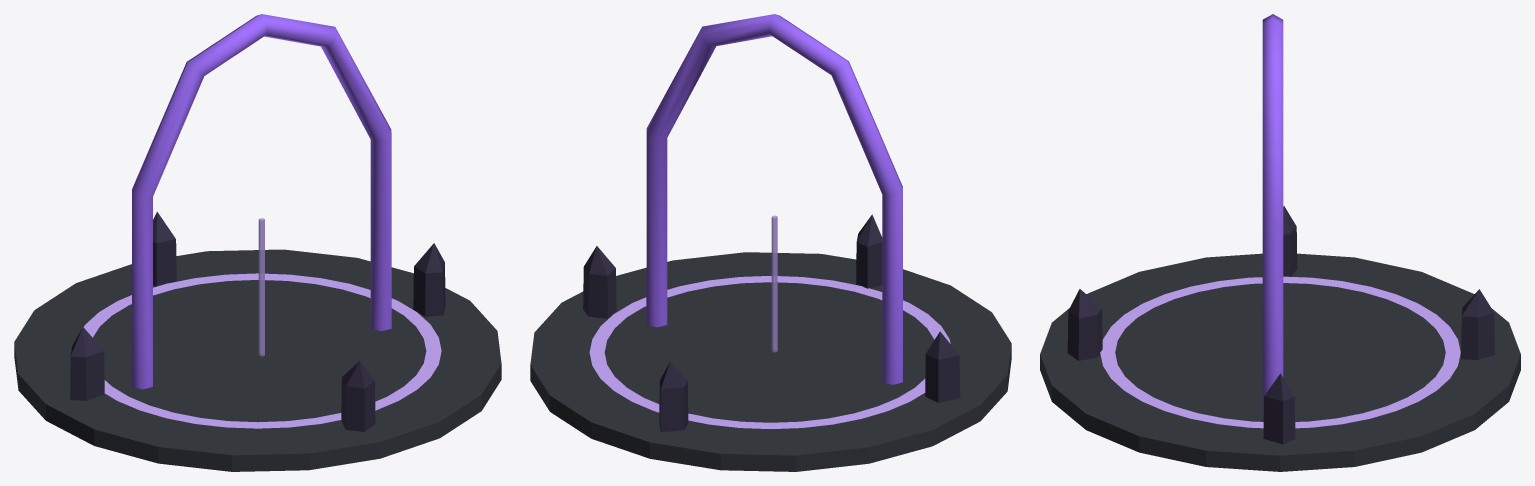
File: warp.fbx
3 renders of one model, left to right at view 1: azimuth 30°, elevation 25°; view 2: azimuth 150°, elevation 25°; view 3: azimuth 270°, elevation 25°, orthographic.
Parts seen in each view (by area): view 1: warp; view 2: warp; view 3: warp.
Part boxes in pixels (x1=…): warp: x1=14, y1=14, x2=501, y2=471; warp: x1=530, y1=14, x2=1011, y2=471; warp: x1=1040, y1=14, x2=1520, y2=471.
Size of the model in its own units: 3.2 by 2.58 by 3.2.
